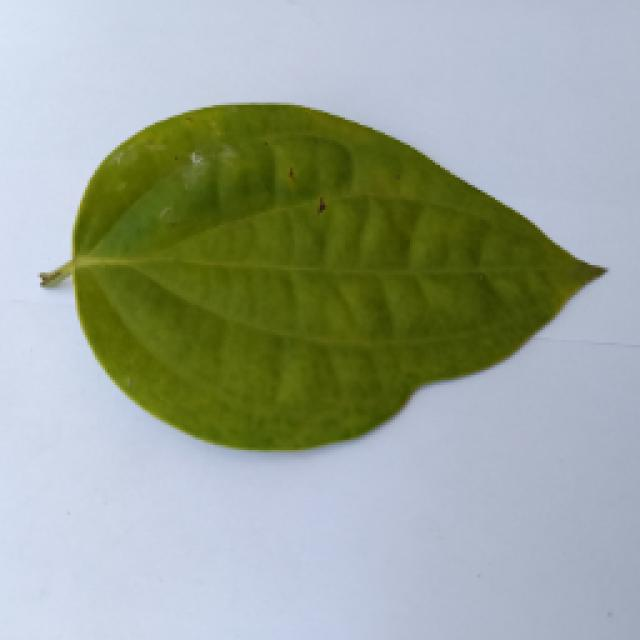slow-decline: (45, 100, 607, 450)
